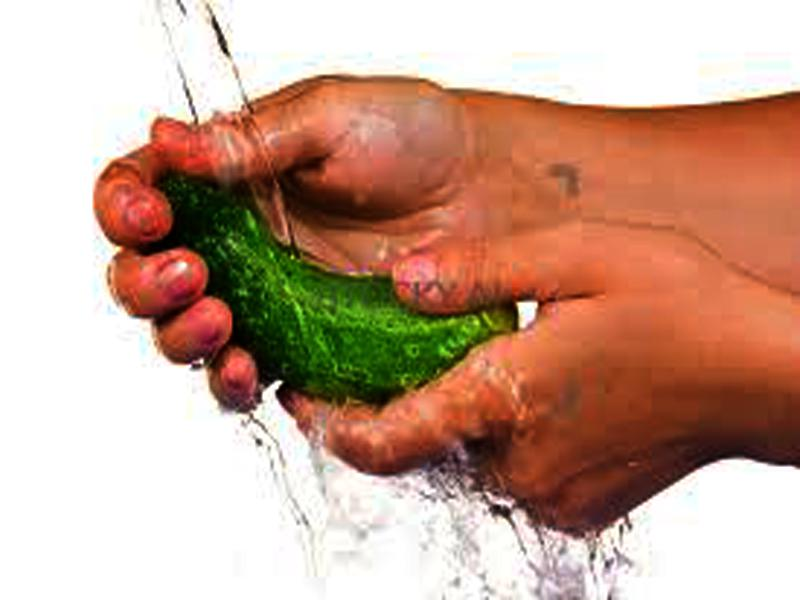Cucumber: (157, 174, 521, 407)
